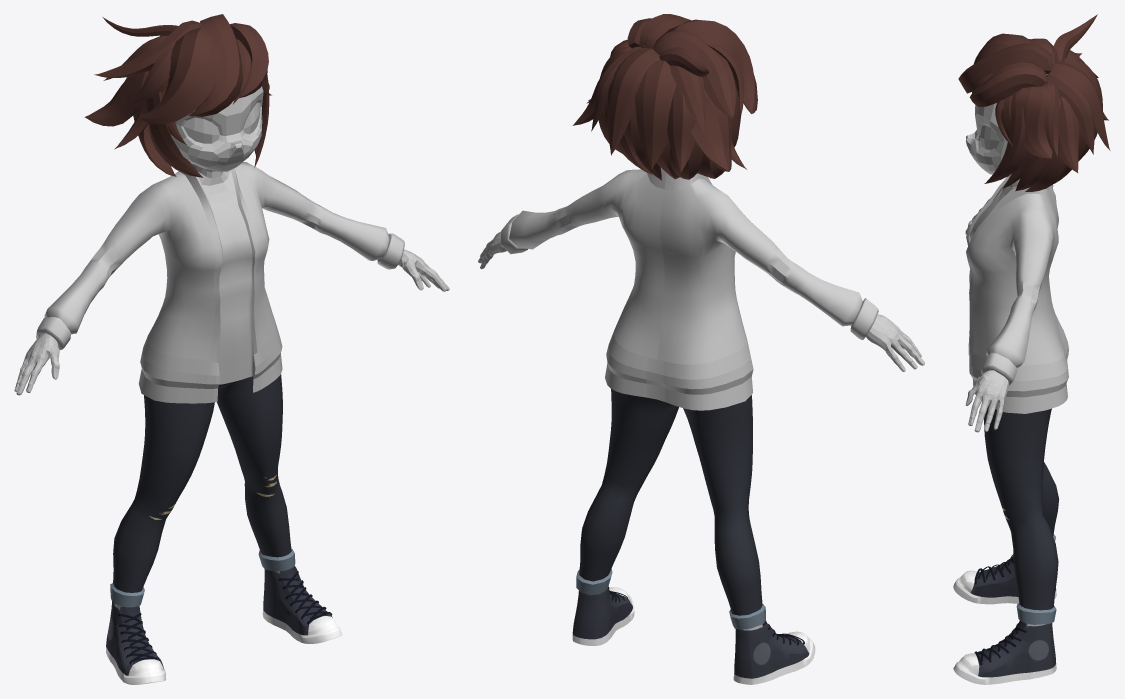
The model's file is Penny Model - Test 01.fbx.
The picture shows the model from 3 angles, left to right: view 1: azimuth 30°, elevation 25°; view 2: azimuth 150°, elevation 25°; view 3: azimuth 270°, elevation 25°; orthographic projection. The views are drawn at different scales.
Visible parts, largest first — view 1: Jacket, Pants, Hair_Mesh, Body_Mesh, L_Shoes, R_Shoes; view 2: Jacket, Hair_Mesh, Pants, R_Shoes, L_Shoes, Body_Mesh; view 3: Jacket, Hair_Mesh, Pants, L_Shoes, Body_Mesh, R_Shoes.
Boxes of the visible parts, x1=… form: Jacket: x1=36, y1=160, x2=404, y2=403; Pants: x1=110, y1=374, x2=295, y2=607; Hair_Mesh: x1=84, y1=14, x2=271, y2=177; Body_Mesh: x1=14, y1=86, x2=449, y2=609; L_Shoes: x1=262, y1=565, x2=342, y2=643; R_Shoes: x1=106, y1=601, x2=166, y2=684; Jacket: x1=500, y1=167, x2=878, y2=410; Hair_Mesh: x1=572, y1=14, x2=757, y2=180; Pants: x1=576, y1=389, x2=765, y2=629; R_Shoes: x1=733, y1=621, x2=815, y2=684; L_Shoes: x1=572, y1=586, x2=634, y2=645; Body_Mesh: x1=478, y1=211, x2=924, y2=630; Jacket: x1=966, y1=177, x2=1068, y2=413; Hair_Mesh: x1=958, y1=14, x2=1110, y2=191; Pants: x1=984, y1=405, x2=1059, y2=624; L_Shoes: x1=953, y1=620, x2=1056, y2=684; Body_Mesh: x1=965, y1=74, x2=1047, y2=667; R_Shoes: x1=953, y1=554, x2=1056, y2=604.
Size of the model in its own units: 6.34 by 8.7 by 2.08.
